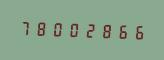eight: (97, 20, 112, 41), (33, 18, 48, 38)
seven: (17, 17, 32, 38)
six: (129, 21, 144, 42), (113, 21, 128, 41)
two: (81, 19, 96, 40)
zero: (49, 18, 64, 39), (65, 19, 80, 39)
